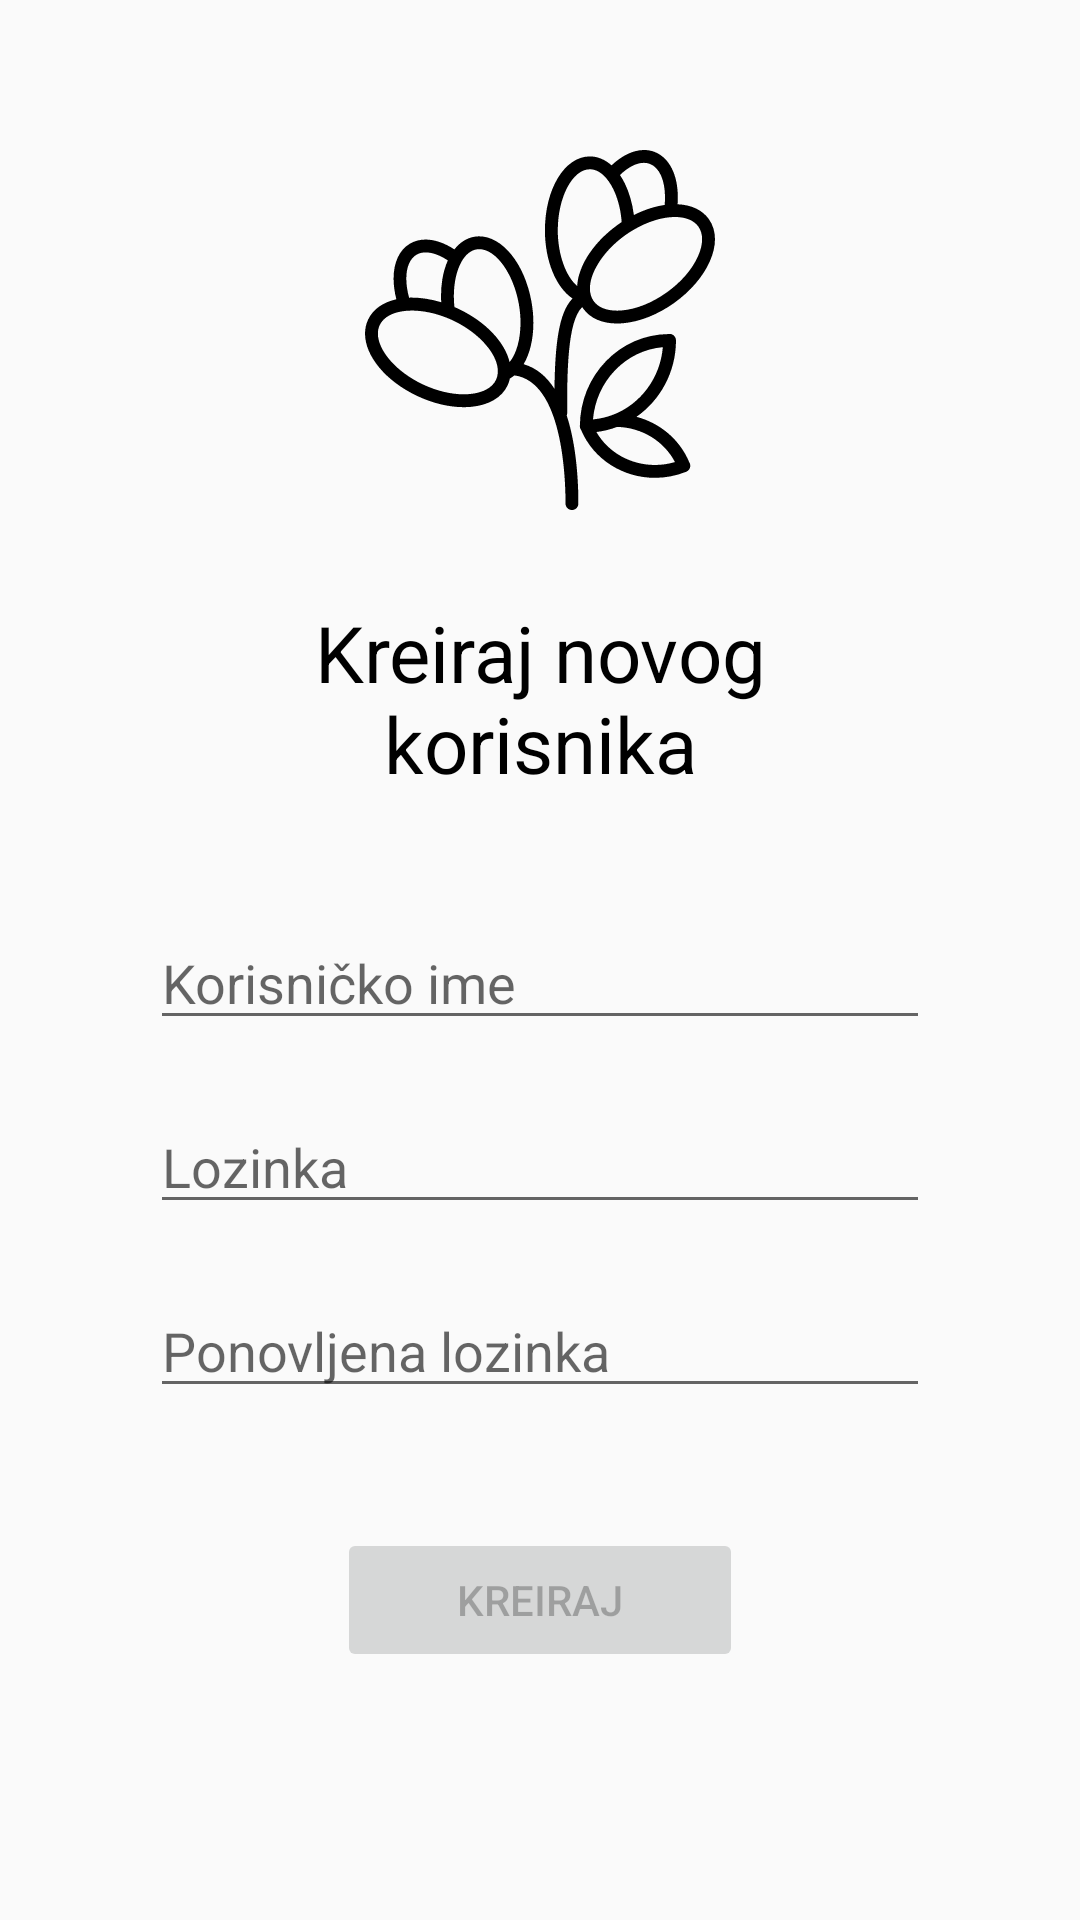

Screen size 1080px×1920px. Icon name, then its center in pixels as (x=x, y=y):
Cviće: (x=540, y=330)
